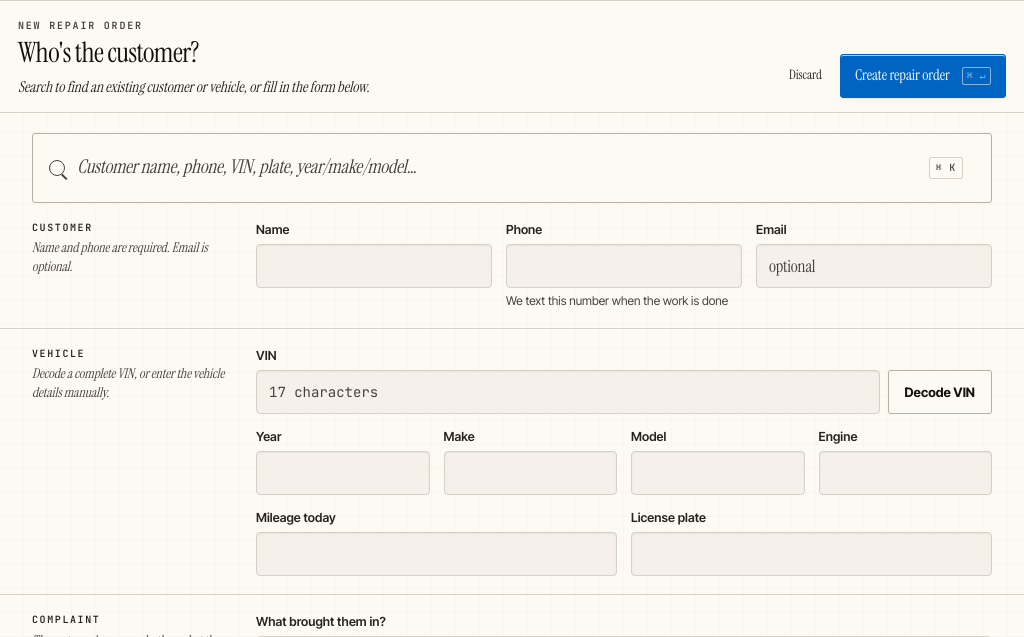
Test: WriteUp › names and focuses the complaint when it is the only thing missing
This screenshot has width=1024, height=637.
Type "Brittney Nichols" into the field labelled "Name".
click(374, 266); type("Brittney Nichols")  # box [256,244,492,288]
Type "1235542121" into the field labelled "Phone".
click(624, 266); type("1235542121")  # box [506,244,742,288]
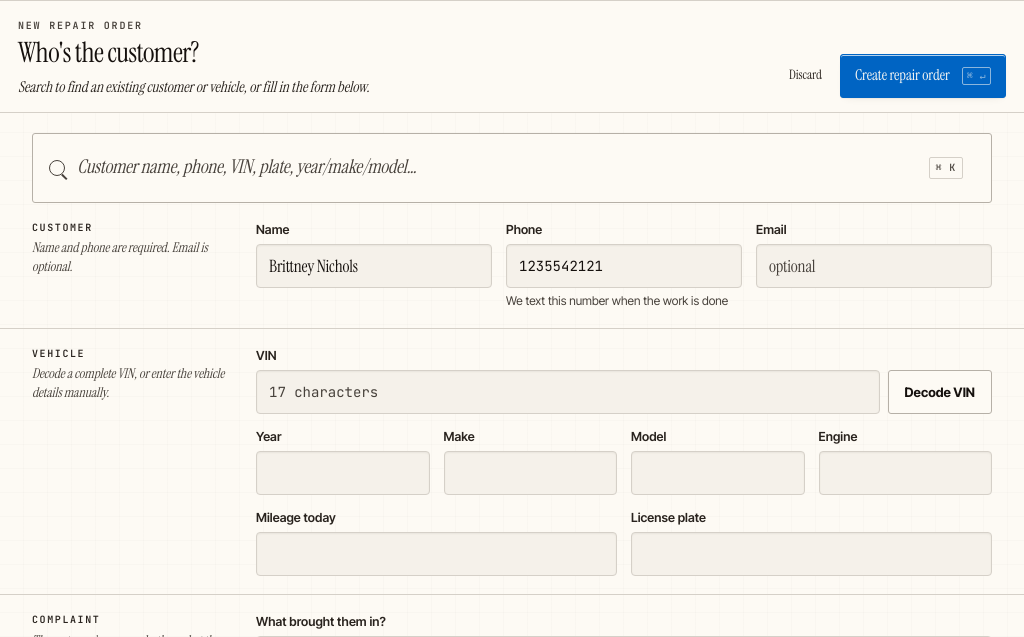
Type "2007" into the number field labelled "Year".
click(343, 473); type("2007")  # box [256,451,430,495]
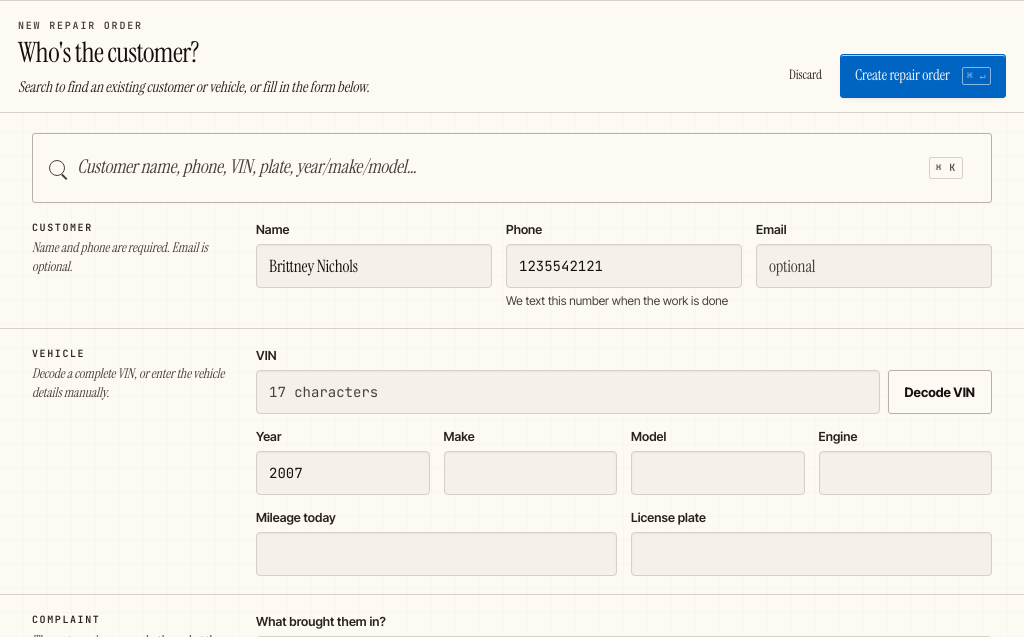
Type "Chevrolet" into the field labelled "Make".
click(530, 473); type("Chevrolet")  # box [444,451,617,495]
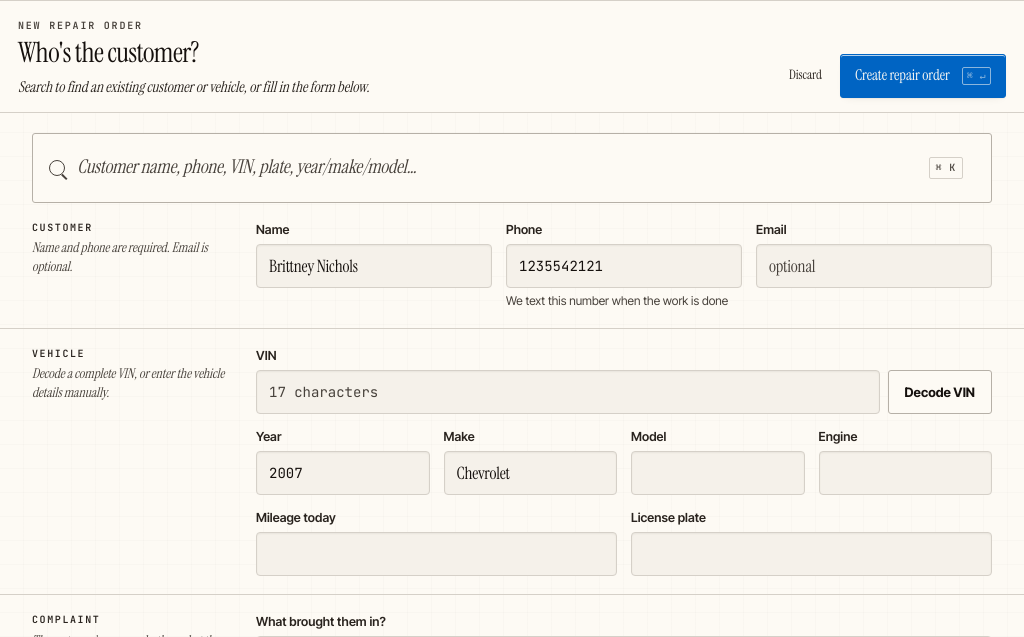
Type "Tahoe" into the field labelled "Model".
click(718, 473); type("Tahoe")  # box [631,451,804,495]
(page scrolled)
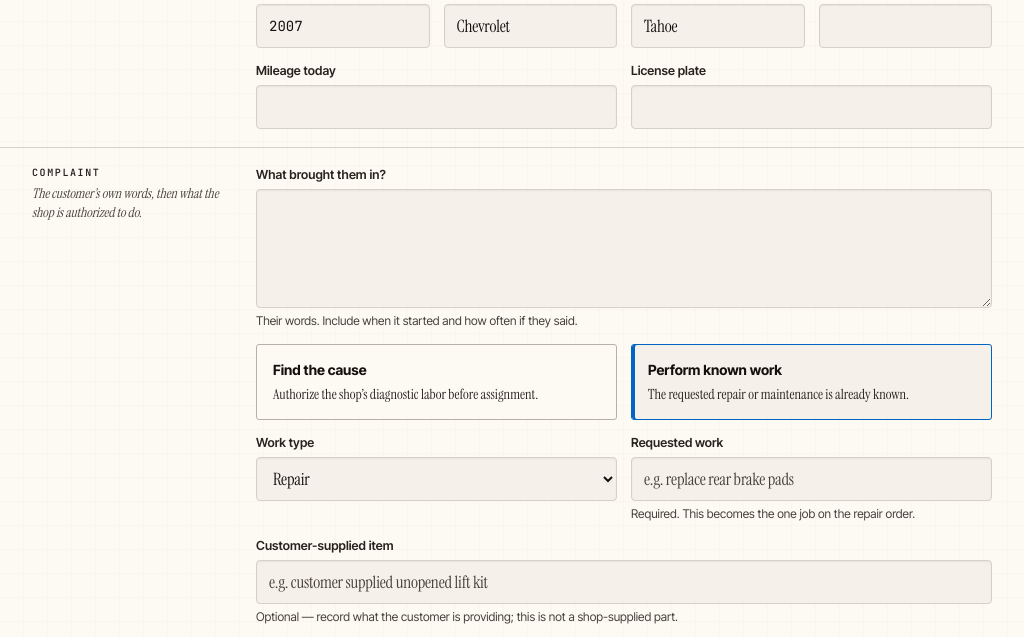
Type "Inspect no-start concern" into the field labelled "Requested work".
click(812, 479); type("Inspect no-start concern")  # box [631,457,992,501]
(page scrolled)
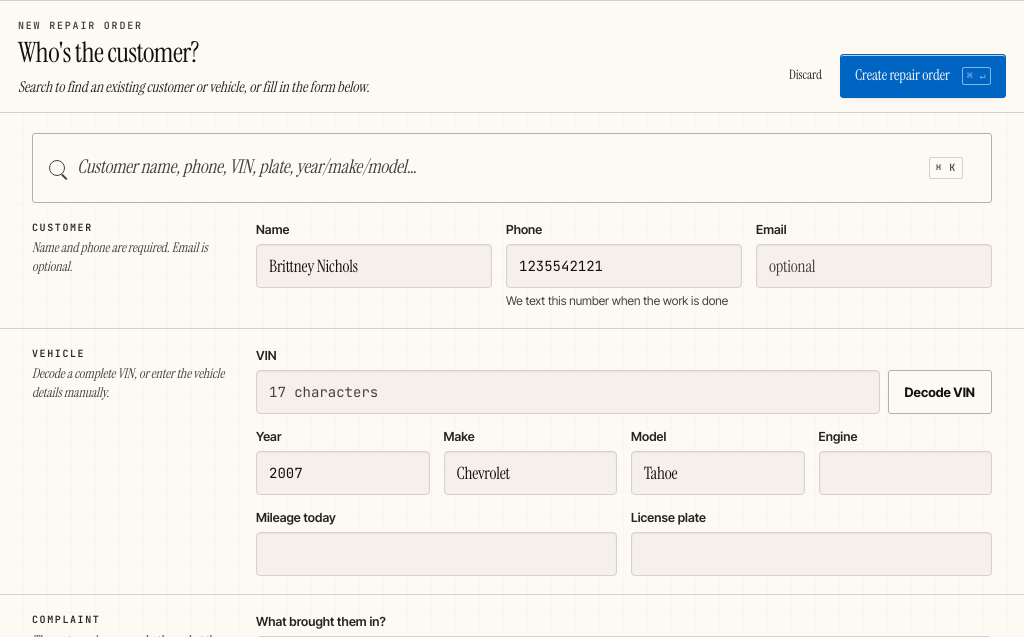
Click the button "Create repair order ⌘ ↵".
click(923, 76)  # box [840,54,1006,98]
(page scrolled)
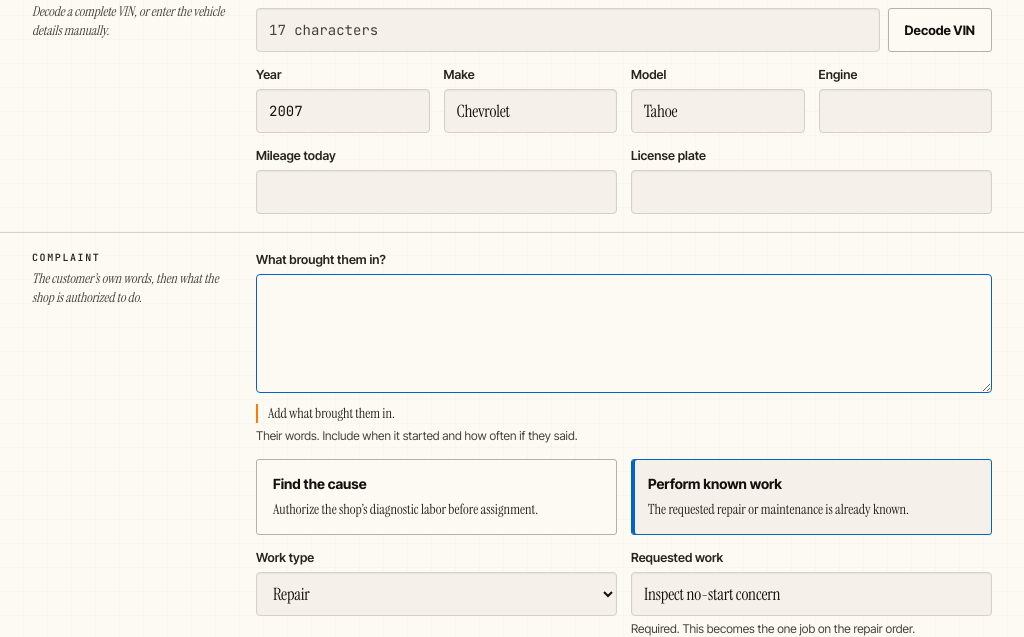
Result: the message reads "Add what brought them in." at [268,404,395,422]
